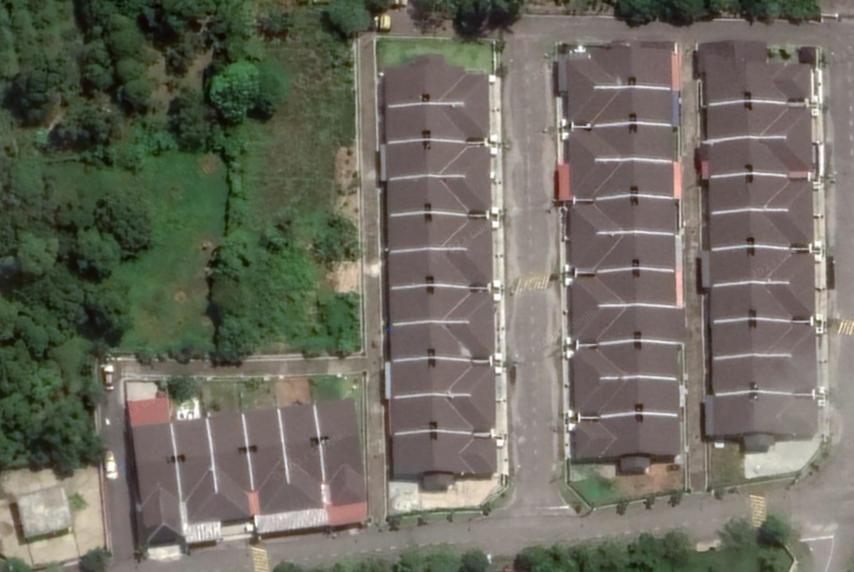building: (571, 412, 689, 483), (694, 39, 815, 107), (701, 392, 820, 457), (553, 42, 683, 96), (383, 437, 502, 493), (377, 50, 492, 106), (312, 394, 368, 508), (697, 244, 822, 289), (239, 411, 291, 518), (170, 419, 222, 525), (565, 304, 689, 348), (277, 401, 326, 510), (701, 320, 821, 363), (381, 358, 500, 400), (208, 415, 257, 517), (695, 139, 818, 179), (568, 345, 690, 385), (373, 286, 504, 323), (699, 103, 817, 144), (382, 140, 498, 181), (702, 172, 816, 213), (565, 270, 683, 309), (562, 233, 683, 271), (571, 377, 688, 416), (565, 197, 683, 235), (568, 159, 682, 198), (567, 123, 681, 162), (385, 323, 498, 362), (376, 251, 495, 288), (380, 104, 492, 143), (705, 210, 818, 248), (381, 178, 498, 214), (378, 215, 498, 250), (705, 285, 818, 322), (385, 398, 498, 434), (708, 359, 821, 393), (569, 89, 678, 124)
